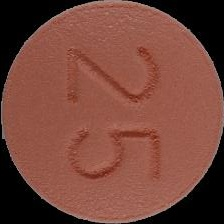16714-452: (0, 0, 224, 224)
